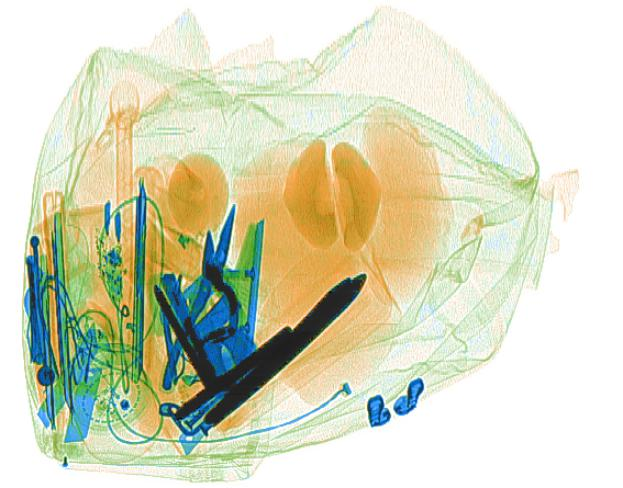knife: (37, 318, 102, 433), (128, 175, 150, 386), (63, 364, 103, 443)
